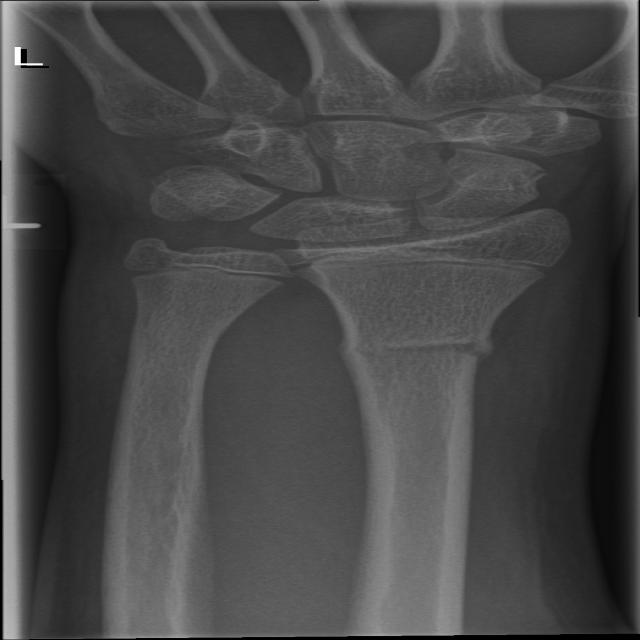radius fracture: (303, 288, 546, 482)
